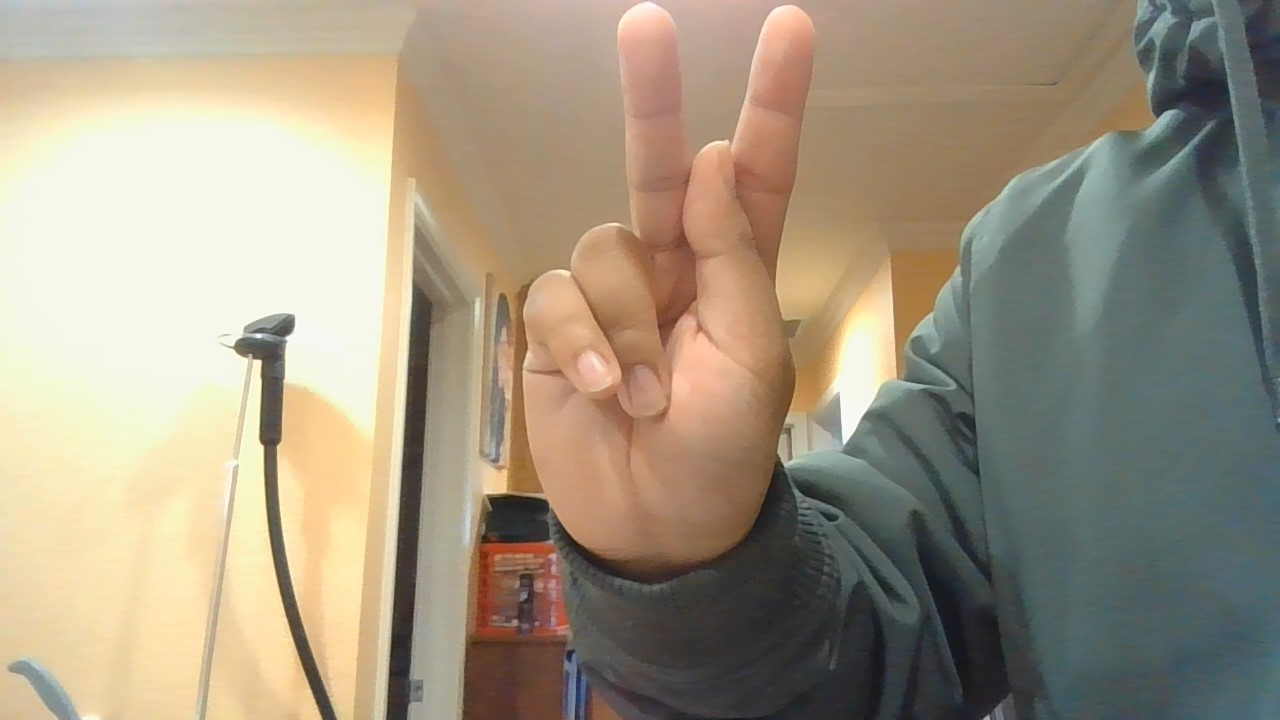k: (512, 1, 872, 598)
